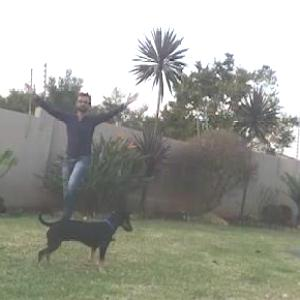takeoff: (43, 88, 156, 218)
